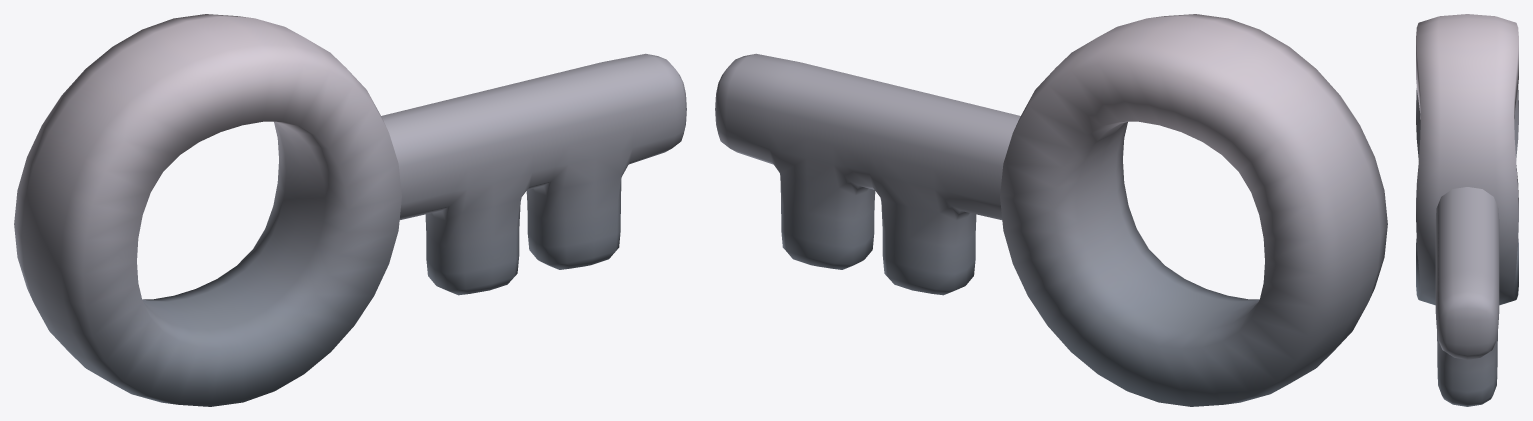
File: Key.fbx
3 views of the same model, side by side, from view 1: azimuth 30°, elevation 25°; view 2: azimuth 150°, elevation 25°; view 3: azimuth 270°, elevation 25° (orthographic). The views are drawn at different scales.
Parts seen in each view (by area): view 1: Key; view 2: Key; view 3: Key.
Part boxes in pixels (x1,y1,x2,y2): Key: (14,14,686,406); Key: (715,14,1387,406); Key: (1416,14,1518,406).
Bounding box in the file's own units: 269 × 143 × 50.34.
